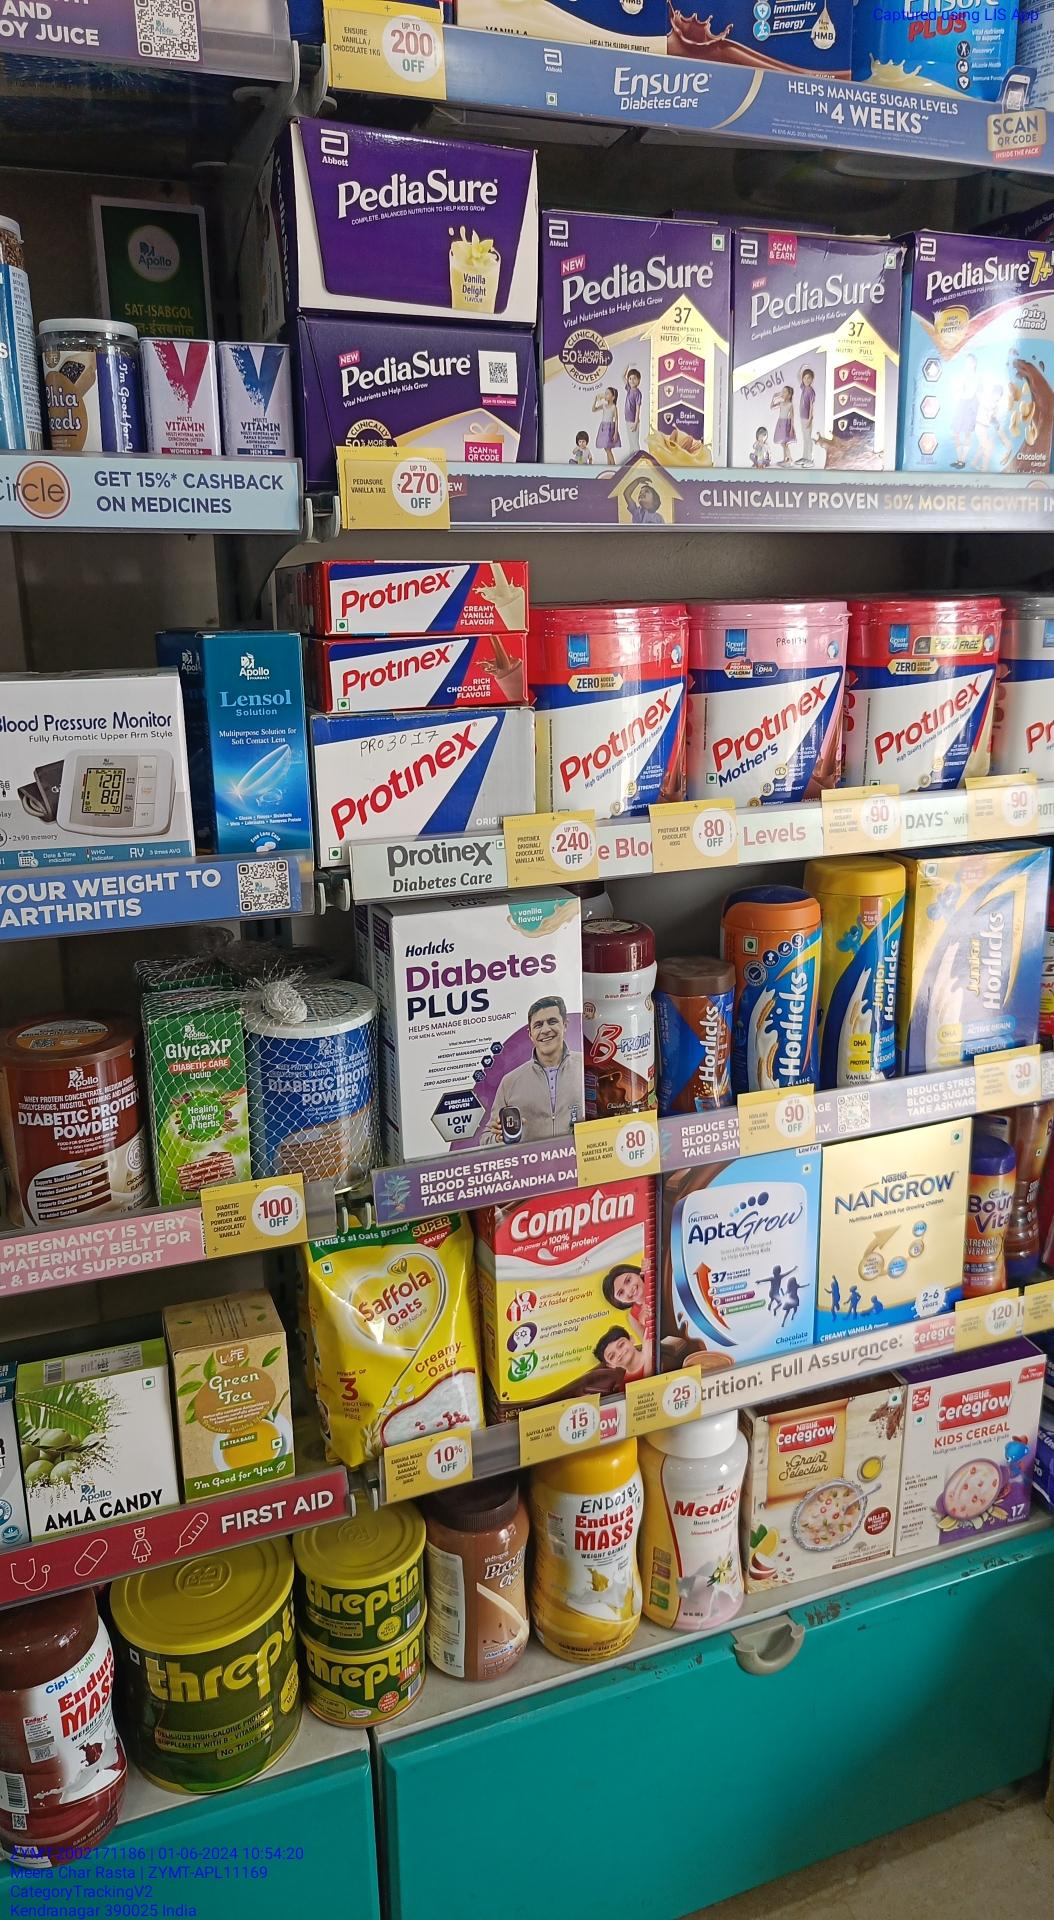BOURN_VITA_200_G_JAR: (966, 1155, 1016, 1296)
COMPLAN_CHOCOLATE_500_GMS_PACK: (497, 1190, 652, 1411)
HORLICKS_JUNIOR_VANILLA_500_GM_JAR: (823, 860, 901, 1090)
HORLICK_CHOCOLATE_200_G_JAR: (656, 966, 732, 1112)
HORLICK_CLASSIC_MALT_500_G_JAR: (744, 895, 819, 1099)
PEDIASURE_7_PLUS_CHOCOLATE_400_G_PACK: (910, 231, 1054, 470)
PEDIASURE_CHOCOLATE_500_G_PACK: (741, 230, 897, 474)
PEDIASURE_VANILLA_500_G_PACK: (546, 213, 728, 468)
PROTINEX_CHOCOLATE_400_G_JAR: (537, 605, 688, 820)
PROTINEX_VANILLA_400_G_JAR: (850, 597, 1002, 787)
